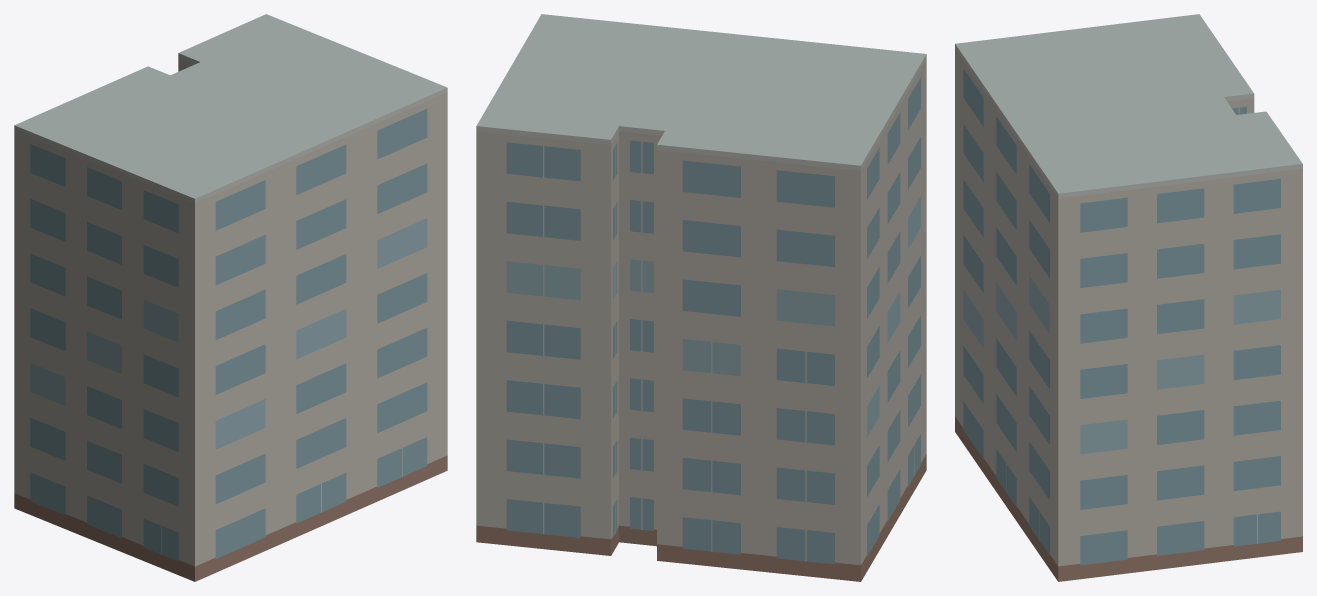
The model's file is survey-upis-32662060.glb.
3 views of the same model, side by side, from view 1: azimuth 30°, elevation 25°; view 2: azimuth 150°, elevation 25°; view 3: azimuth 270°, elevation 25° (orthographic). The views are drawn at different scales.
Parts seen in each view (by area): view 1: survey-upis-32662060.tmp; view 2: survey-upis-32662060.tmp; view 3: survey-upis-32662060.tmp.
Boxes of the visible parts, left/top/right/bottom form: survey-upis-32662060.tmp: left=14, top=14, right=447, bottom=581; survey-upis-32662060.tmp: left=476, top=14, right=926, bottom=581; survey-upis-32662060.tmp: left=955, top=14, right=1302, bottom=581.
Size of the model in its own units: 19.78 by 19.9 by 16.17.
